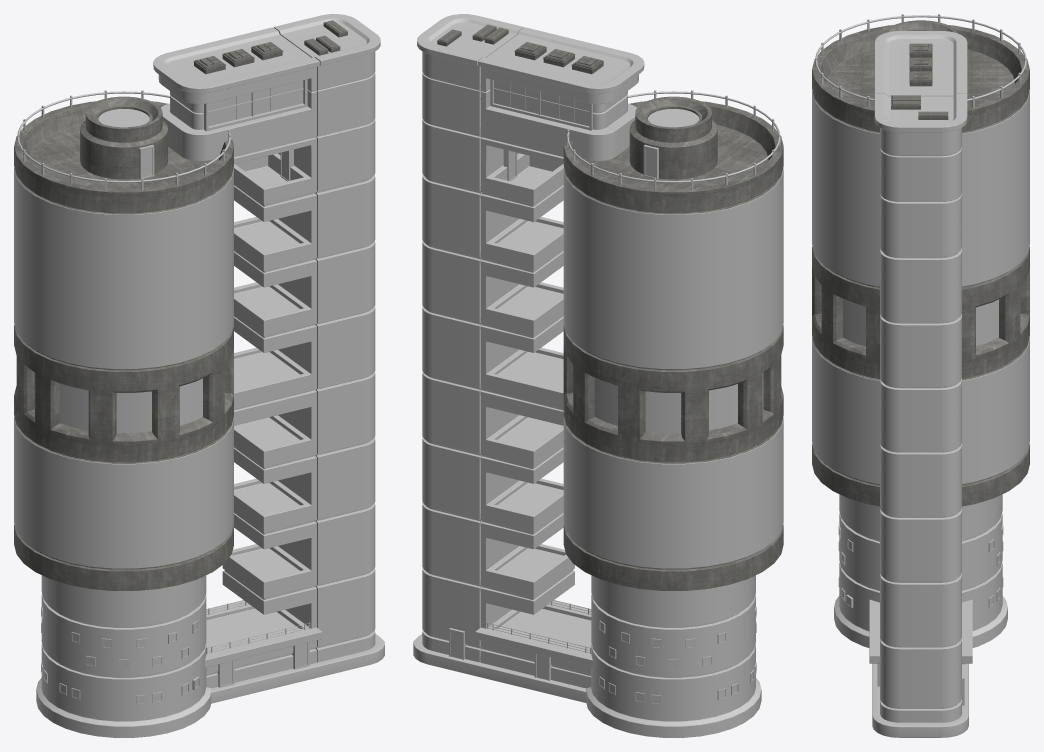
The model's file is Kitbash3D_Brutalist_Cylinder02.fbx.
3 renders of one model, left to right at view 1: azimuth 30°, elevation 25°; view 2: azimuth 150°, elevation 25°; view 3: azimuth 270°, elevation 25°, orthographic.
Parts seen in each view (by area): view 1: M_Sm_Bldg_Side_Bldg1, M_Sm_Bldg_BldgBunker, M_Sm_Bldg_BldgConcrete, M_Sm_Bldg_WindowsGlass, M_Sm_Bldg_Mull_WinFrames, M_Sm_Bldg_Rails, M_Sm_Bldg_Props, M_Sm_Bldg_Door; view 2: M_Sm_Bldg_Side_Bldg1, M_Sm_Bldg_BldgBunker, M_Sm_Bldg_BldgConcrete, M_Sm_Bldg_WindowsGlass, M_Sm_Bldg_Mull_WinFrames, M_Sm_Bldg_Rails, M_Sm_Bldg_Props, M_Sm_Bldg_Door; view 3: M_Sm_Bldg_Side_Bldg1, M_Sm_Bldg_BldgBunker, M_Sm_Bldg_BldgConcrete, M_Sm_Bldg_WindowsGlass, M_Sm_Bldg_Props, M_Sm_Bldg_Rails, M_Sm_Bldg_Mull_WinFrames.
Part boxes in pixels (bbox=[...]): M_Sm_Bldg_Side_Bldg1: bbox=[153, 14, 384, 703]; M_Sm_Bldg_BldgBunker: bbox=[14, 167, 233, 737]; M_Sm_Bldg_BldgConcrete: bbox=[14, 96, 233, 590]; M_Sm_Bldg_WindowsGlass: bbox=[34, 80, 303, 703]; M_Sm_Bldg_Mull_WinFrames: bbox=[41, 79, 307, 705]; M_Sm_Bldg_Rails: bbox=[17, 90, 310, 653]; M_Sm_Bldg_Props: bbox=[193, 20, 347, 74]; M_Sm_Bldg_Door: bbox=[139, 144, 309, 687]; M_Sm_Bldg_Side_Bldg1: bbox=[413, 14, 644, 702]; M_Sm_Bldg_BldgBunker: bbox=[563, 168, 783, 737]; M_Sm_Bldg_BldgConcrete: bbox=[563, 96, 783, 590]; M_Sm_Bldg_WindowsGlass: bbox=[494, 80, 763, 703]; M_Sm_Bldg_Mull_WinFrames: bbox=[490, 79, 756, 704]; M_Sm_Bldg_Rails: bbox=[487, 90, 780, 653]; M_Sm_Bldg_Props: bbox=[437, 24, 603, 74]; M_Sm_Bldg_Door: bbox=[449, 144, 658, 680]; M_Sm_Bldg_Side_Bldg1: bbox=[869, 31, 972, 737]; M_Sm_Bldg_BldgBunker: bbox=[812, 91, 1029, 647]; M_Sm_Bldg_BldgConcrete: bbox=[812, 20, 1029, 506]; M_Sm_Bldg_WindowsGlass: bbox=[839, 299, 1002, 605]; M_Sm_Bldg_Props: bbox=[891, 43, 948, 119]; M_Sm_Bldg_Rails: bbox=[815, 14, 1026, 107]; M_Sm_Bldg_Mull_WinFrames: bbox=[838, 525, 1003, 607].
Size of the model in its own units: 15.52 by 26.93 by 8.67.
